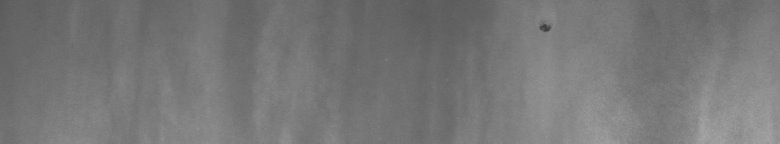fi: (536, 16, 555, 40)
